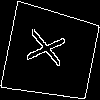X: (26, 28, 75, 71)
